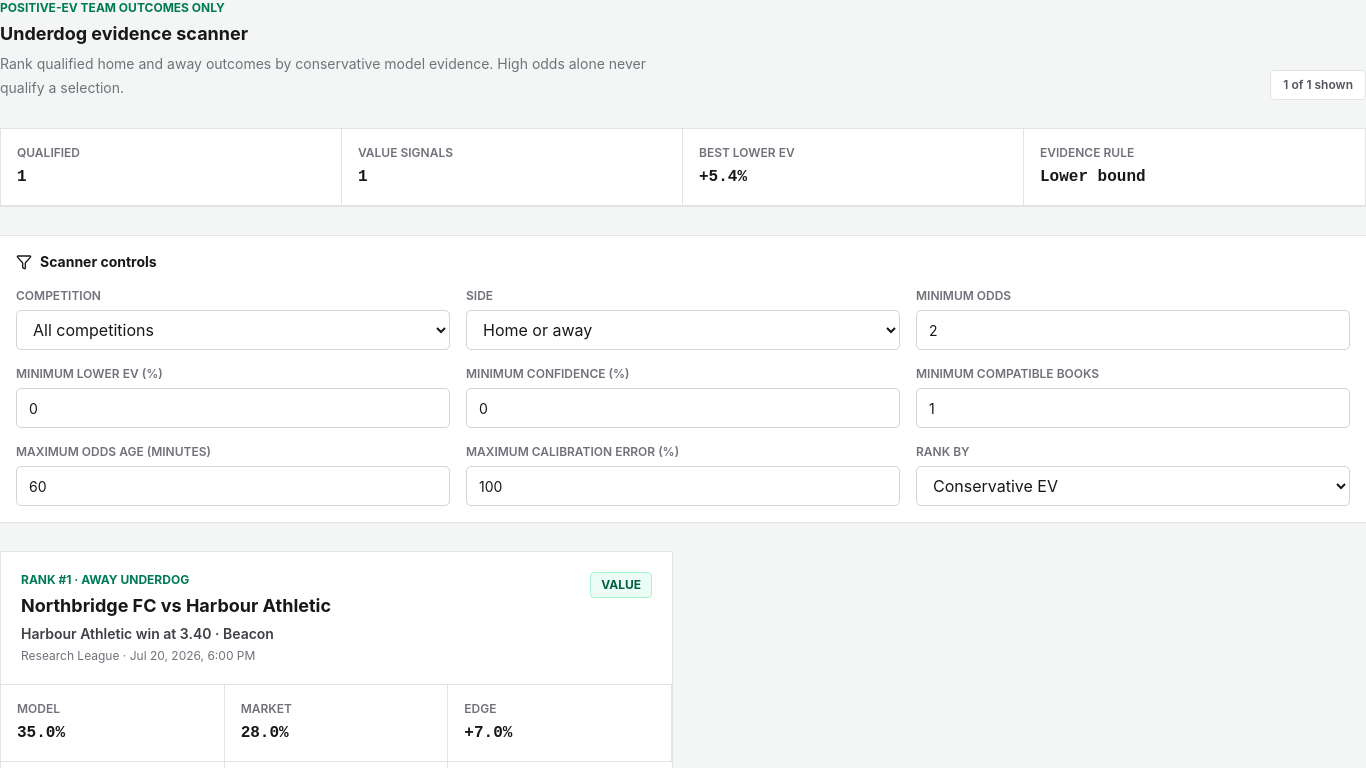
Test: UnderdogScanner › filters the stored qualified set without redefining qualification
This screenshot has width=1366, height=768.
Replace the text in the number field labelled "Minimum confidence (%)" with "90" at coordinates (683, 408), box [466,388,900,428]
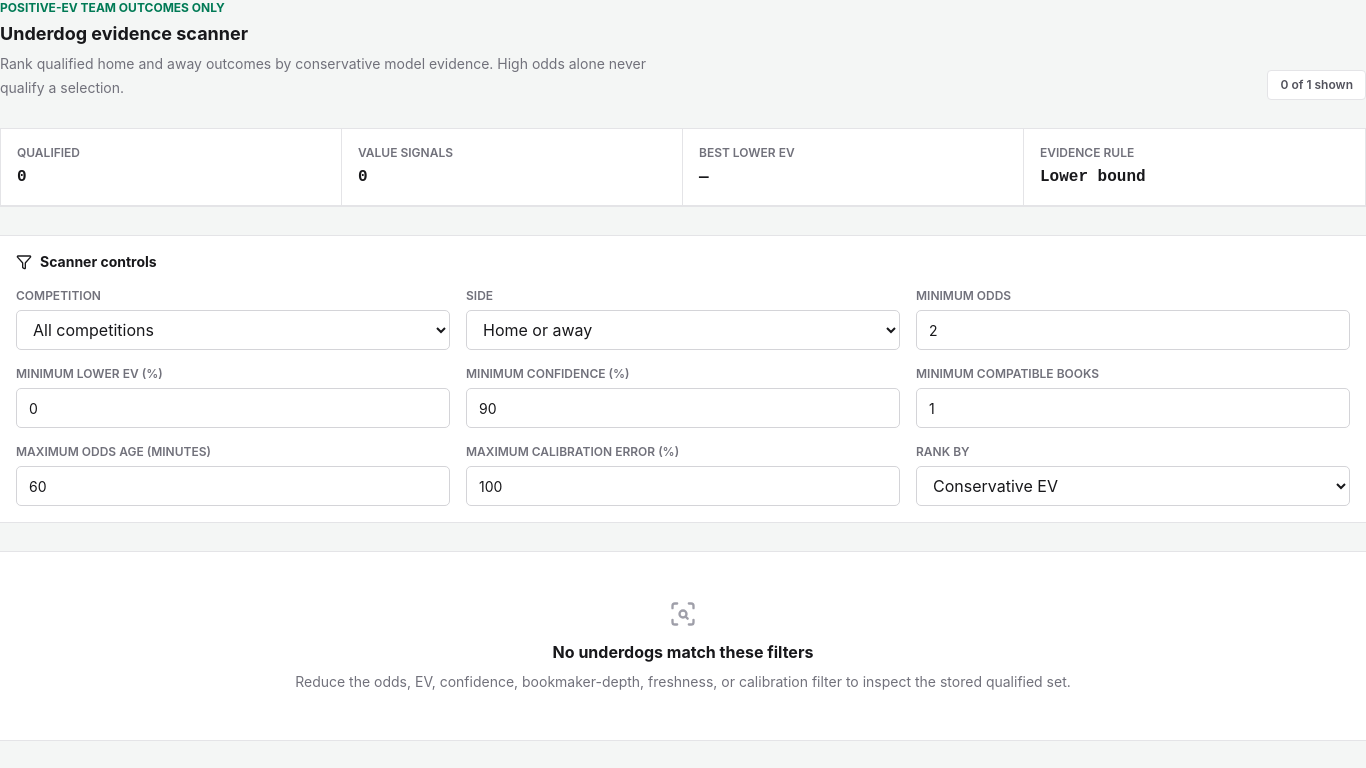
Now the heading "No underdogs match these filters" is shown, box [553,642,813,662]
Now the text "0 of 1 shown" is shown, box [1268,70,1365,100]
